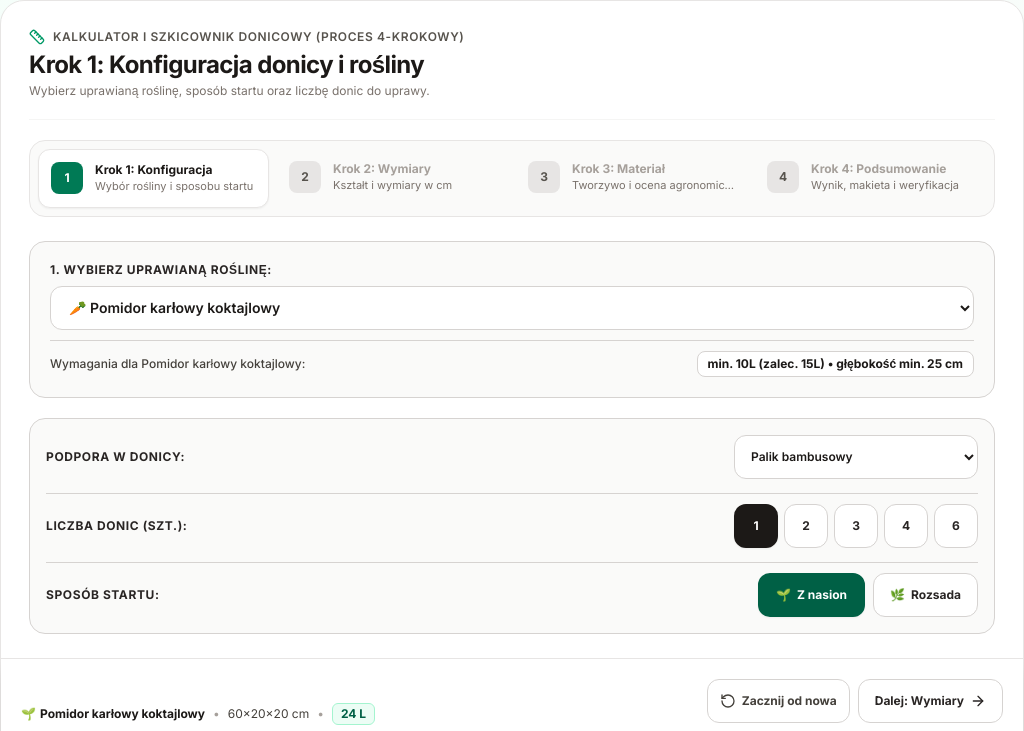
Test: PotCalculator - 4 Clear Steps, Accessible Accordions & Sticky Footer › does not hide validation errors inside collapsed sections when container is too small
Note: Go to step 2 and shrink pot below minimums
Click the text "Krok 2: Wymiary" at [382, 168], box [333,161,431,176]
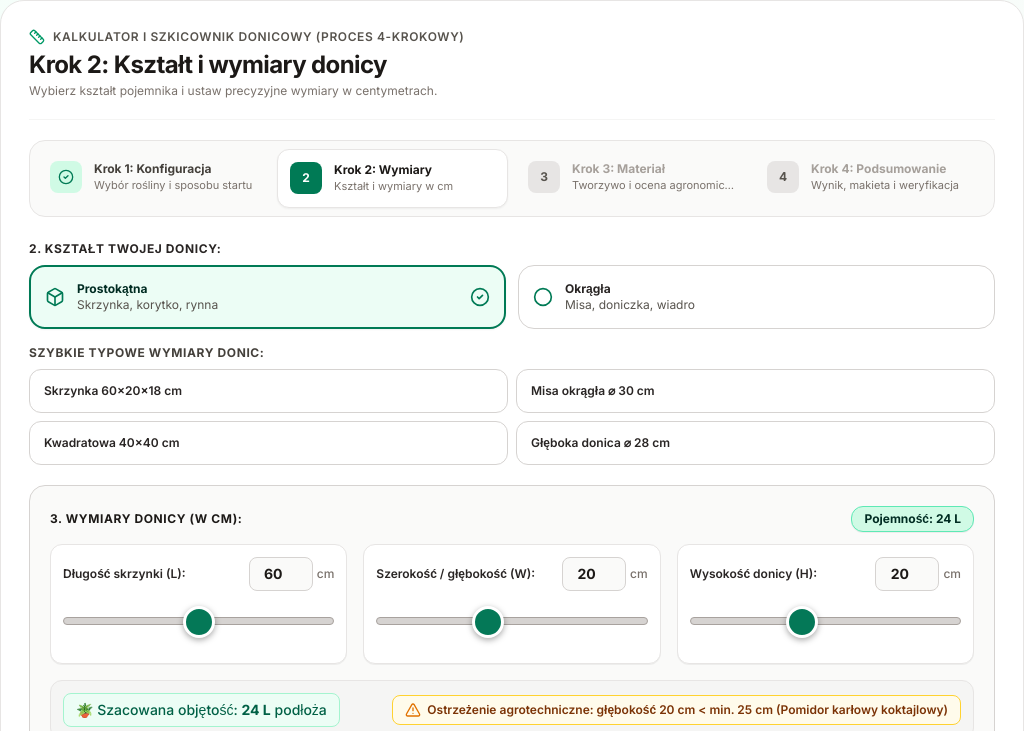
Set the slider with test id "pot-slider-length" to "20" at [114, 620], box [63,598,334,642]
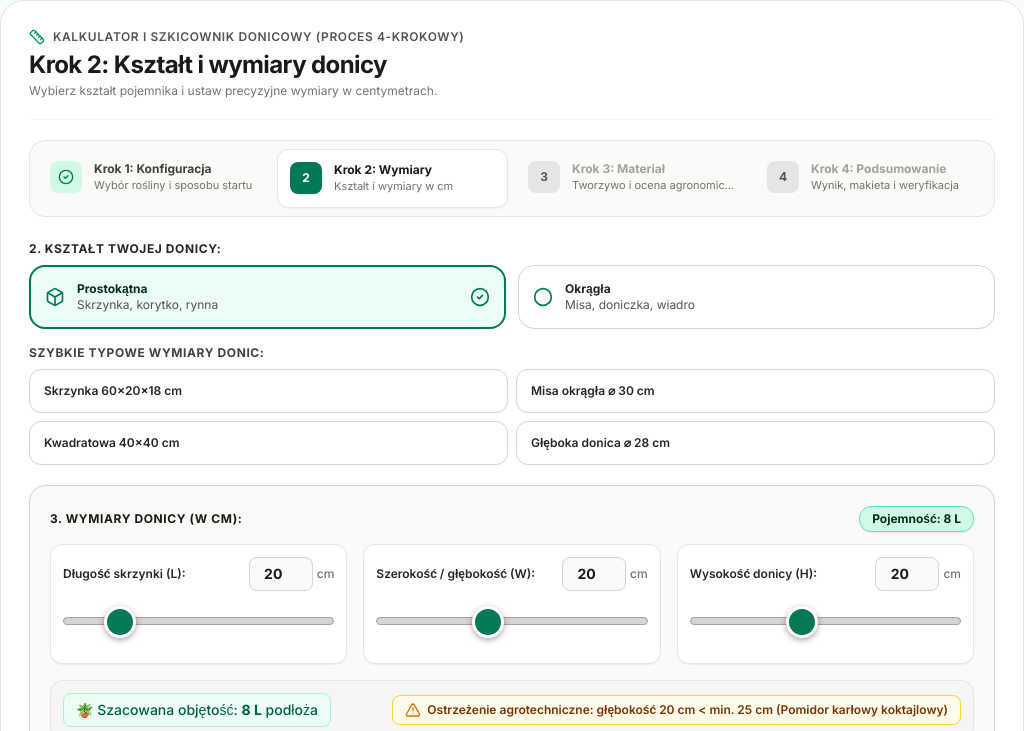
Set the slider with test id "pot-slider-width" to "12" at [446, 620], box [376,598,648,642]
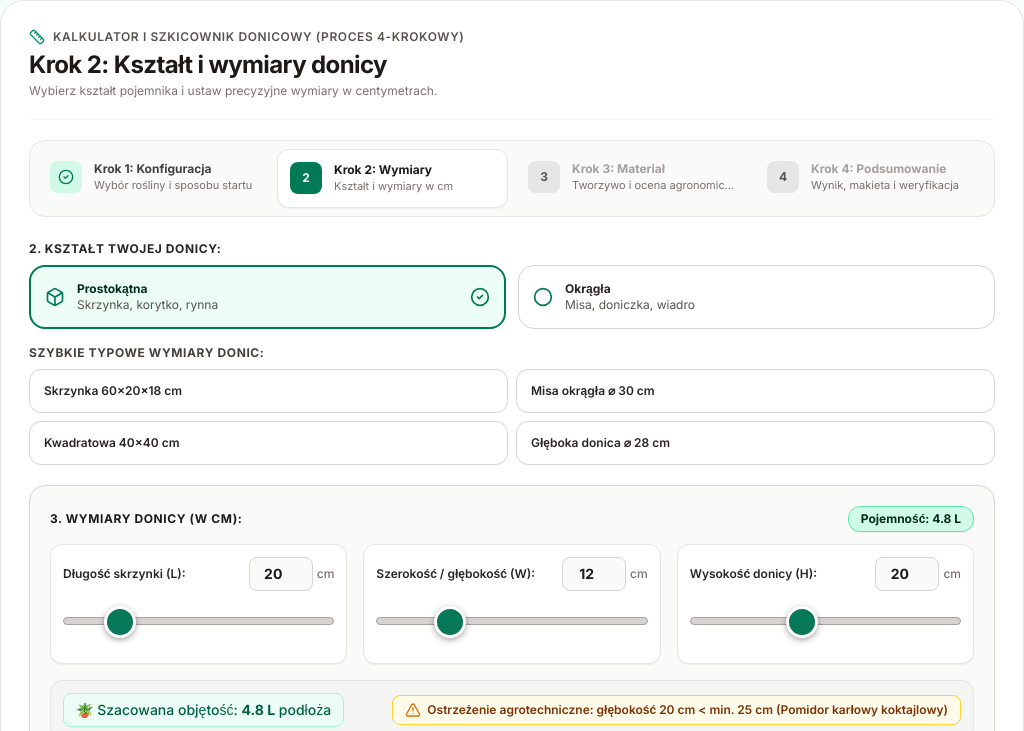
Set the slider with test id "pot-slider-rect-height" to "12" at [759, 620], box [690,598,961,642]
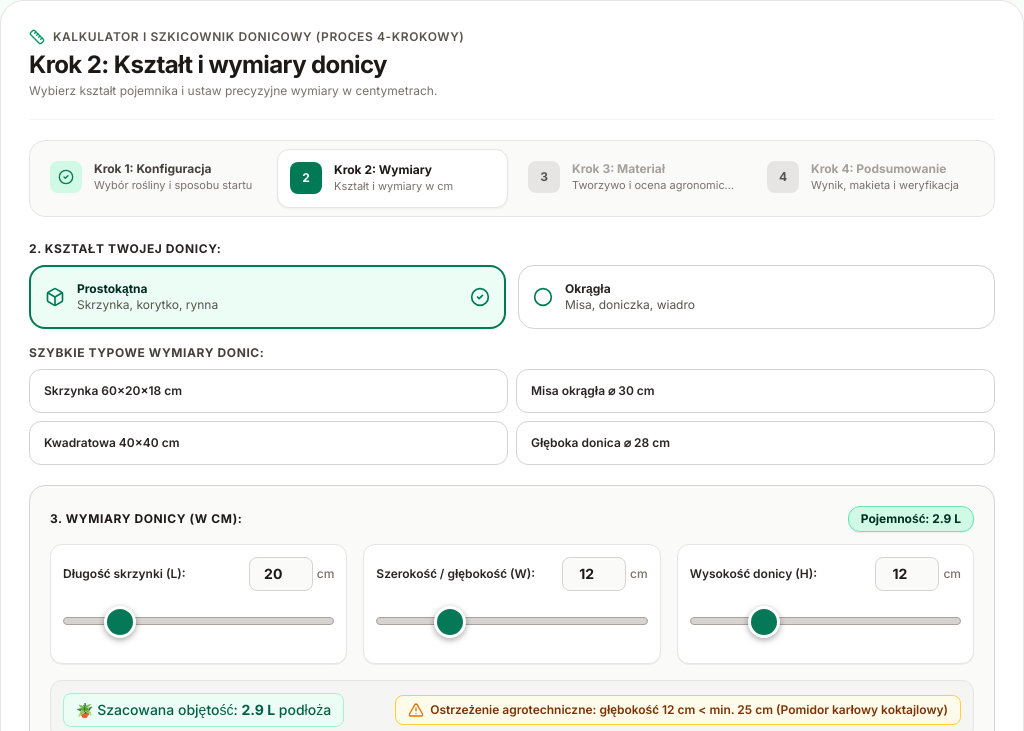
Note: Go to Step 4 (Summary)
Click the text "Krok 4: Podsumowanie" at [885, 169], box [811,161,959,177]
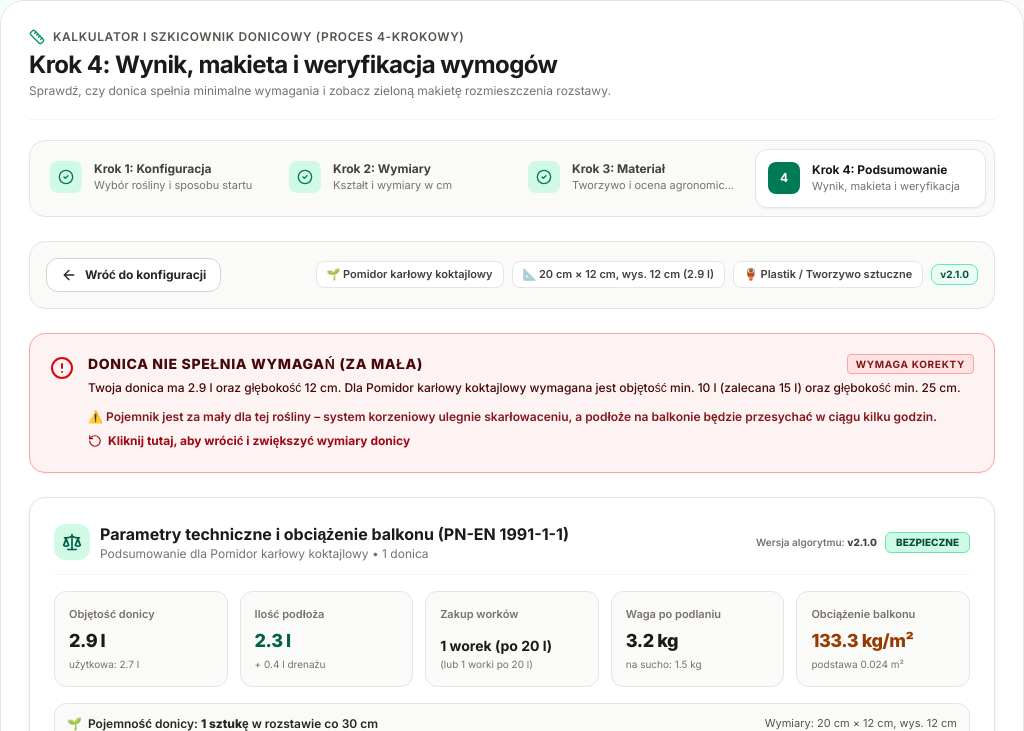
expect the message is shown: met, box [29,332,995,473]
expect the message shows "DONICA NIE SPEŁNIA WYMAGAŃ (ZA MAŁA)": met, box [88,355,423,372]
expect the message shows "Wymaga korekty": met, box [856,358,965,370]
